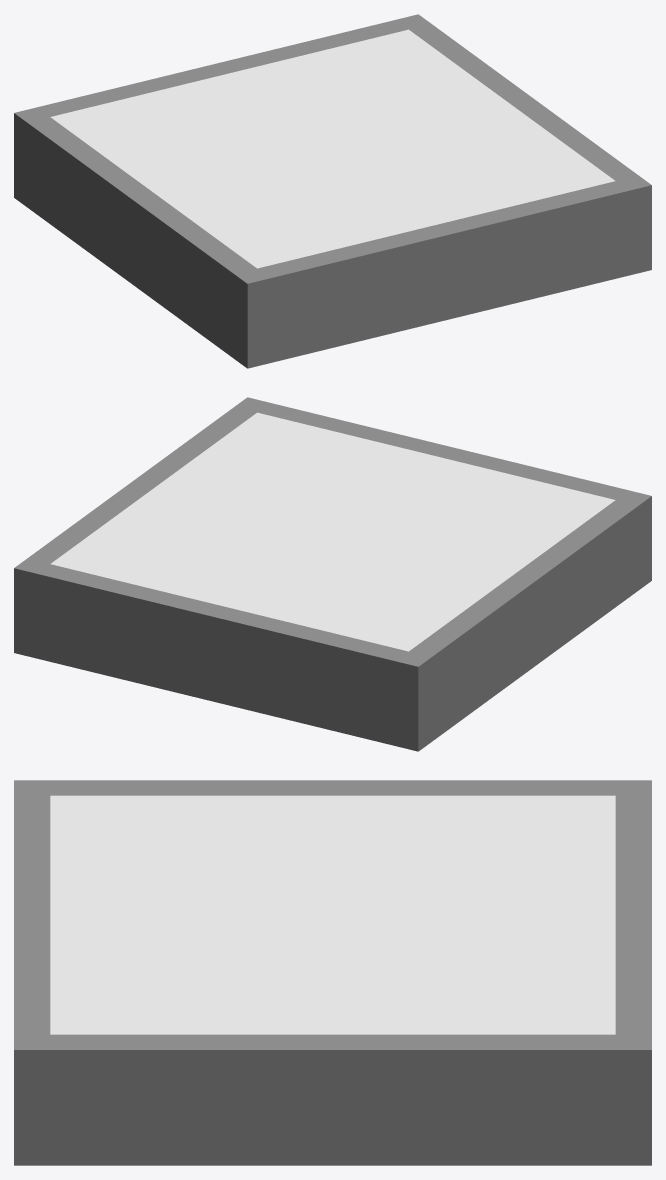
Rendered from stairchunk_collider_box.fbx.
3 renders of one model, top to bottom at view 1: azimuth 30°, elevation 25°; view 2: azimuth 150°, elevation 25°; view 3: azimuth 270°, elevation 25°, orthographic. The views are drawn at different scales.
Visible parts, largest first — view 1: stairchunk_collider_box; view 2: stairchunk_collider_box; view 3: stairchunk_collider_box.
Part boxes in pixels (x1,y1,x2,y2): stairchunk_collider_box: (14,14,651,368); stairchunk_collider_box: (14,397,651,751); stairchunk_collider_box: (14,780,651,1165).
Bounding box in the file's own units: 25 × 25 × 5.01.
